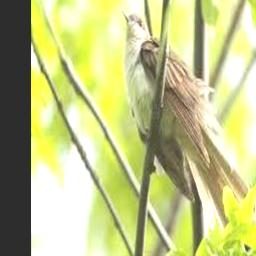Cuckoo: (119, 6, 256, 229)
